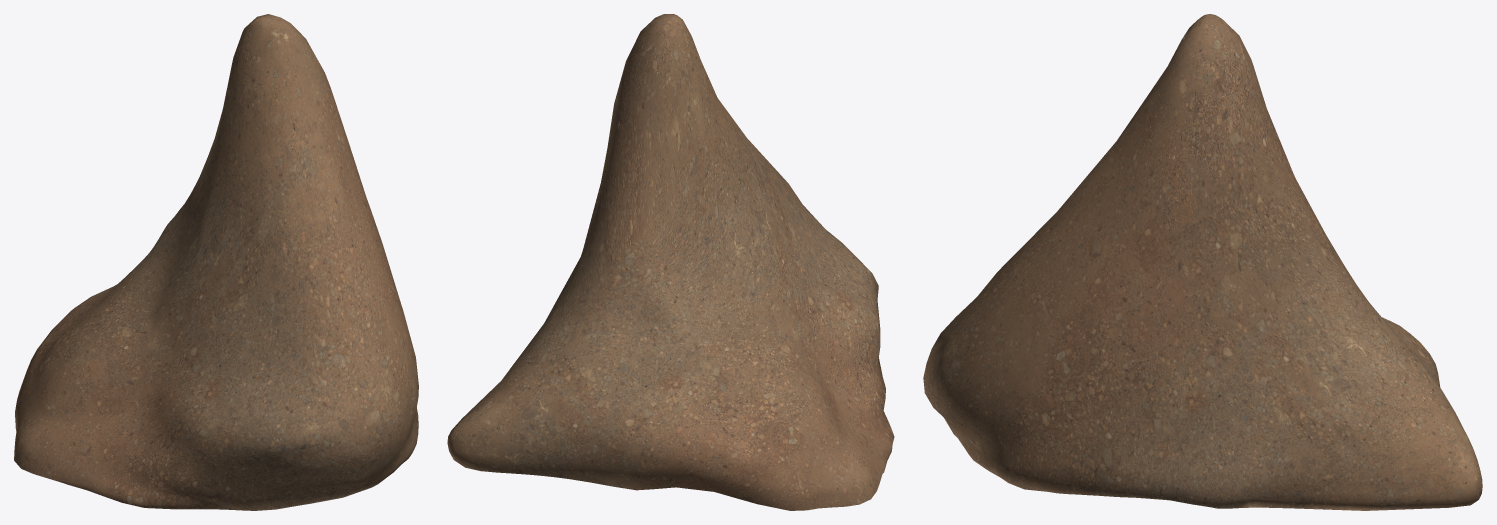
The model's file is SM_Block_Ground.006.fbx.
The picture shows the model from 3 angles, left to right: view 1: azimuth 30°, elevation 25°; view 2: azimuth 150°, elevation 25°; view 3: azimuth 270°, elevation 25°; orthographic projection. The views are drawn at different scales.
Visible parts, largest first — view 1: SM_Block_Ground.006; view 2: SM_Block_Ground.006; view 3: SM_Block_Ground.006.
Boxes of the visible parts, bbox=[...] form: SM_Block_Ground.006: bbox=[14, 14, 418, 510]; SM_Block_Ground.006: bbox=[447, 14, 894, 510]; SM_Block_Ground.006: bbox=[923, 14, 1482, 510].
Bounding box in the file's own units: 1.9 × 2.26 × 2.46.
